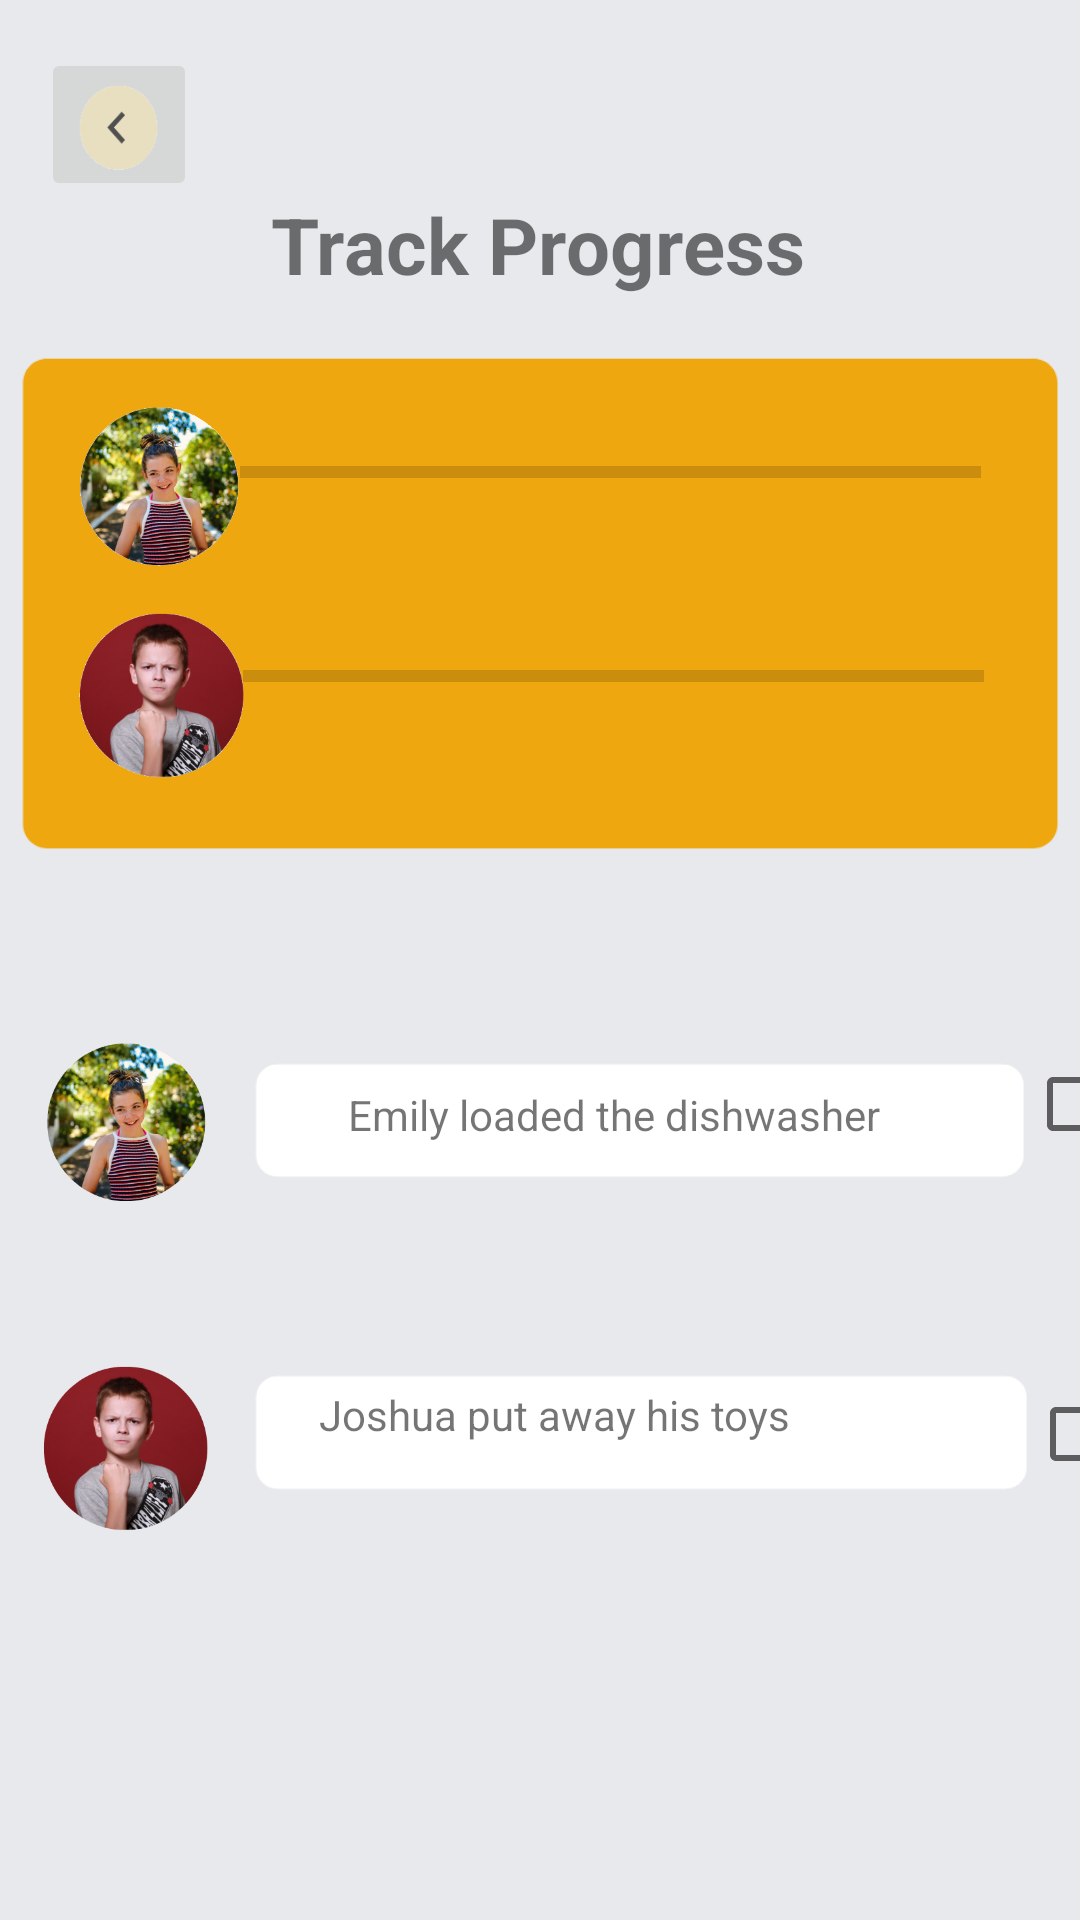

Icon click points for this 1080w x 1920h phone screenshot, format point (x, y):
back: point (118, 127)
